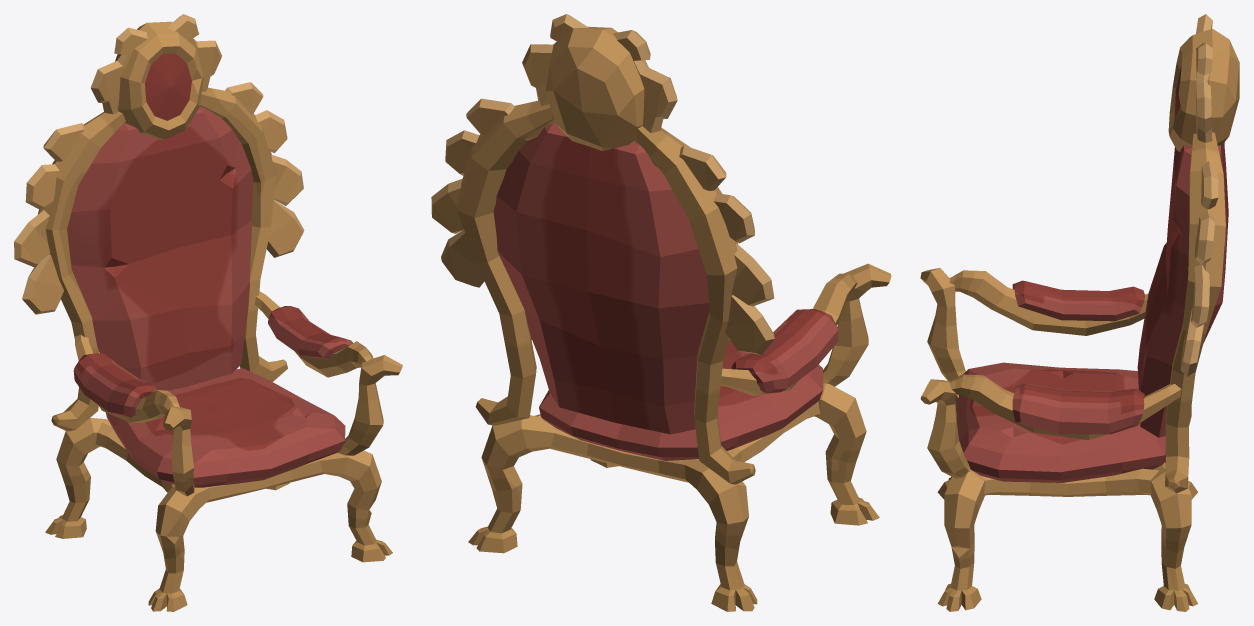
The model's file is SM_Prop_Chair_01.fbx.
3 renders of one model, left to right at view 1: azimuth 30°, elevation 25°; view 2: azimuth 150°, elevation 25°; view 3: azimuth 270°, elevation 25°, orthographic. The views are drawn at different scales.
Parts seen in each view (by area): view 1: SM_Prop_Chair_01; view 2: SM_Prop_Chair_01; view 3: SM_Prop_Chair_01.
Boxes of the visible parts, x1,y1,x2,y2 form: SM_Prop_Chair_01: (14,14,402,611); SM_Prop_Chair_01: (431,14,891,611); SM_Prop_Chair_01: (920,14,1239,611).
Bounding box in the file's own units: 112 × 175 × 97.55.
